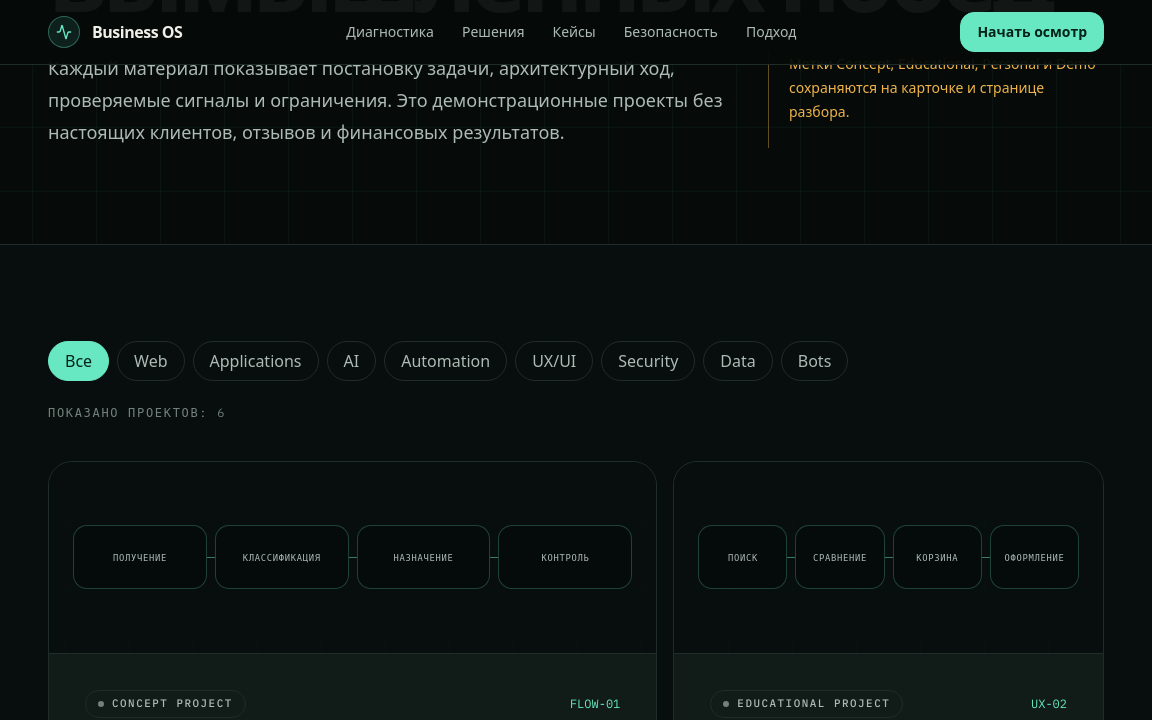
Scenario: projects page › renders all projects and filters by category accessibly
(page scrolled)
Click the button "Bots" at coordinates (815, 361), box [781, 341, 848, 381]
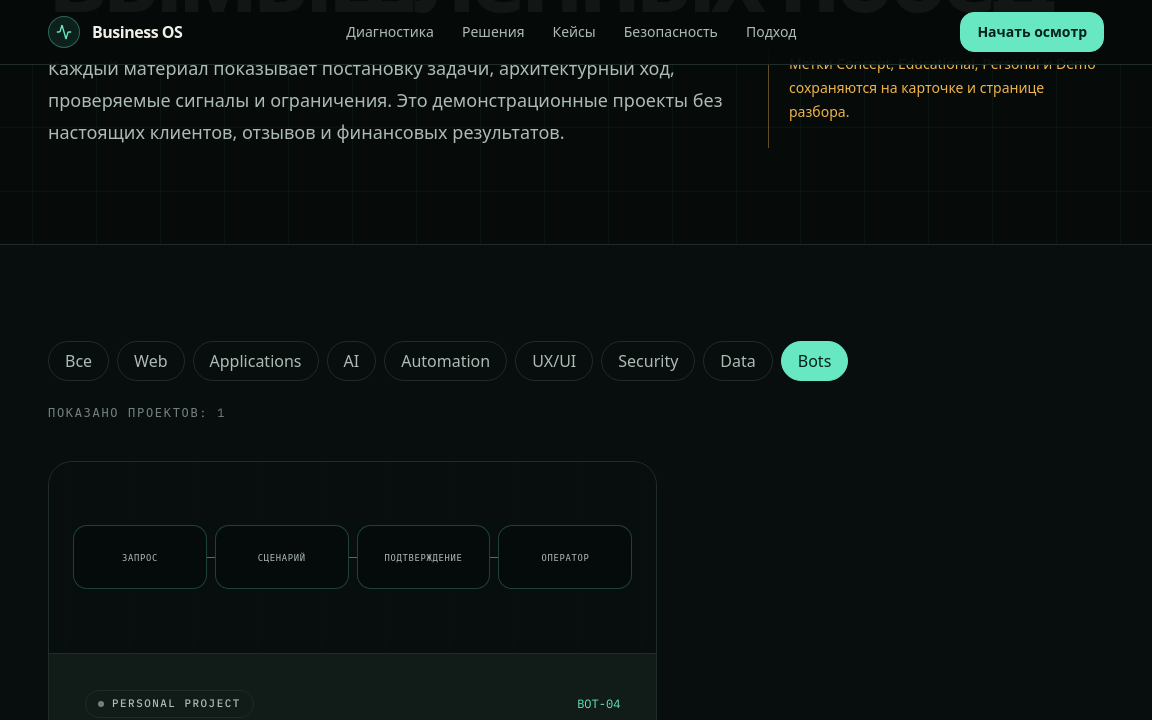
Now the text "Показано проектов: 1" is shown, box [48, 405, 226, 420]
